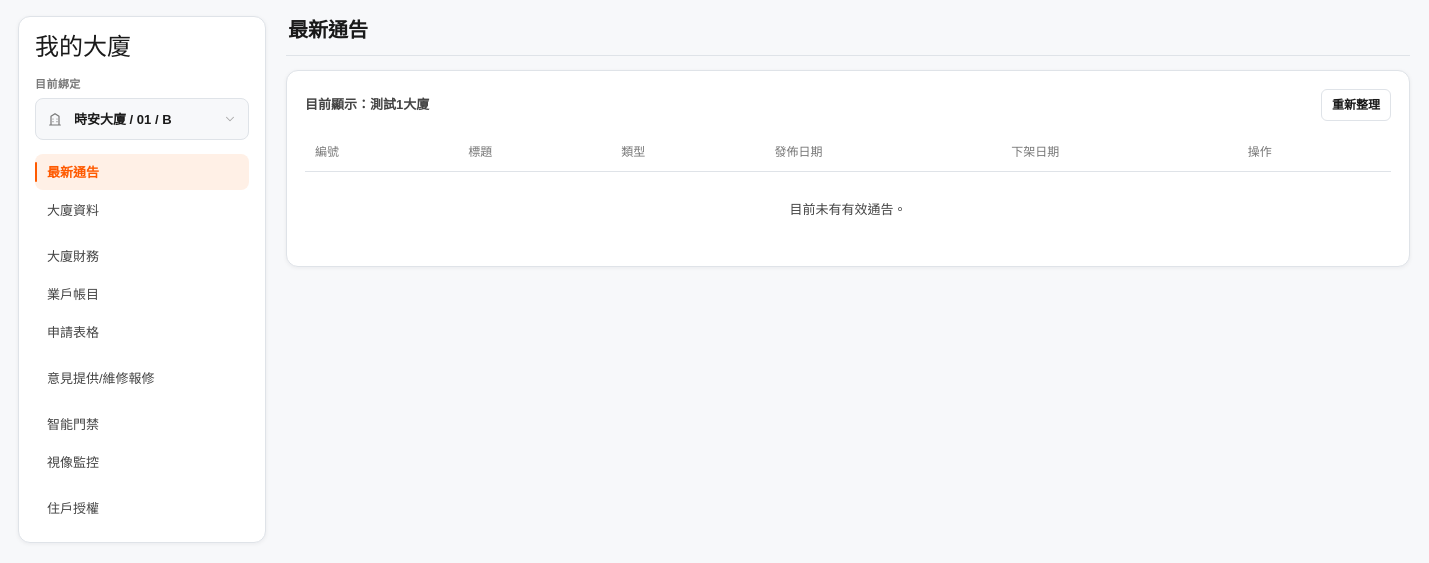
BuildingPage binding refresh › blocks service-case submission without a current building binding
Click the button with class "work-nav-item" showing "意見提供/維修報修" at (142, 378), box [35, 360, 249, 396]
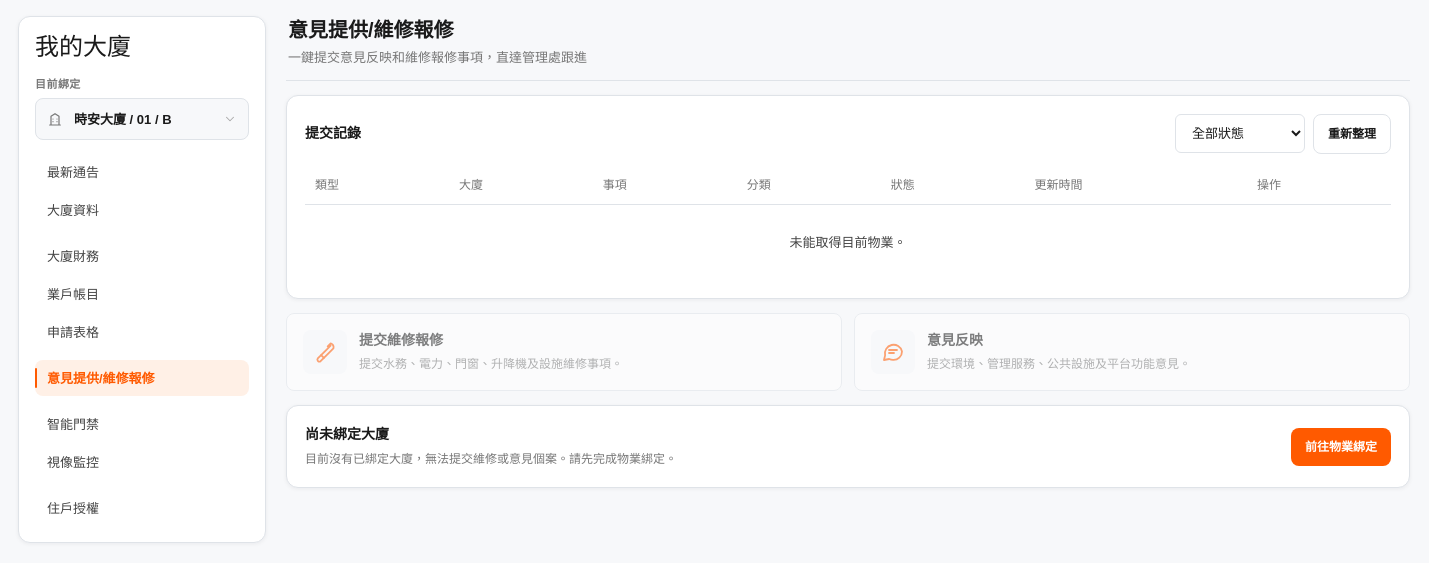
Result: the element that starts with "意見提供/維修報修" shows "目前沒有已綁定大廈，無法提交維修或意見個案" at [305, 452, 677, 466]
